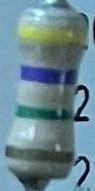Blue: (18, 63, 80, 87)
Green: (13, 103, 73, 122)
Side-Silver: (6, 143, 75, 166)
Yellow: (16, 24, 88, 47)
